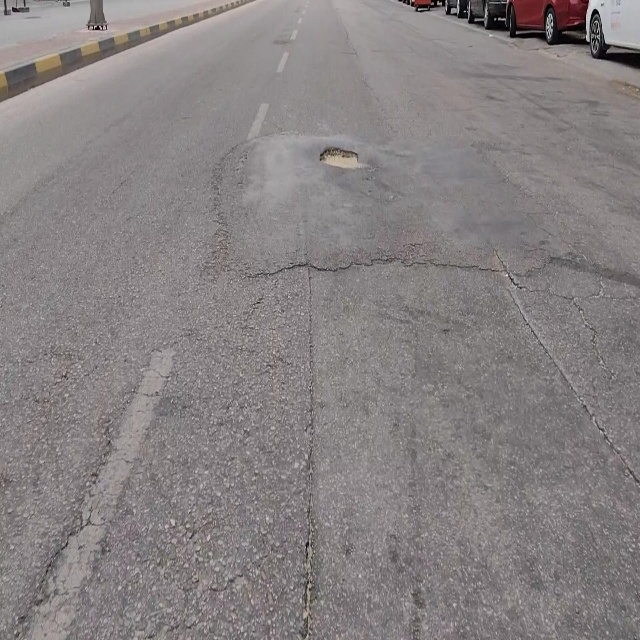pothole: (318, 144, 360, 171)
